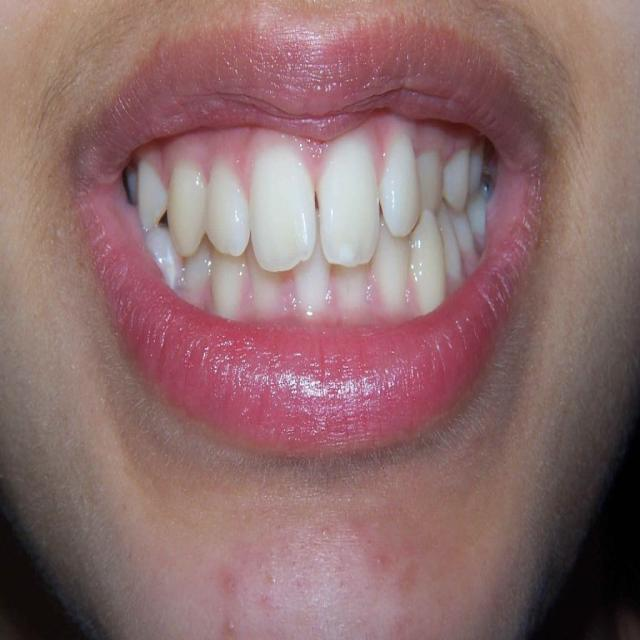tooth: (320, 140, 384, 272), (253, 140, 315, 266), (408, 205, 453, 321), (206, 164, 252, 260), (373, 140, 418, 238), (170, 150, 210, 250), (374, 223, 410, 319), (132, 152, 170, 226), (250, 247, 287, 321), (412, 140, 444, 222), (213, 250, 251, 316), (296, 246, 332, 315), (142, 222, 178, 290), (334, 257, 375, 316), (440, 218, 472, 284), (443, 147, 469, 212), (182, 234, 210, 294), (454, 210, 479, 266), (464, 190, 496, 233), (472, 148, 493, 196)
